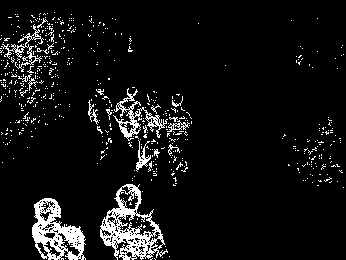person: (170, 89, 195, 183), (88, 82, 117, 162), (122, 83, 145, 164), (147, 88, 164, 178)
